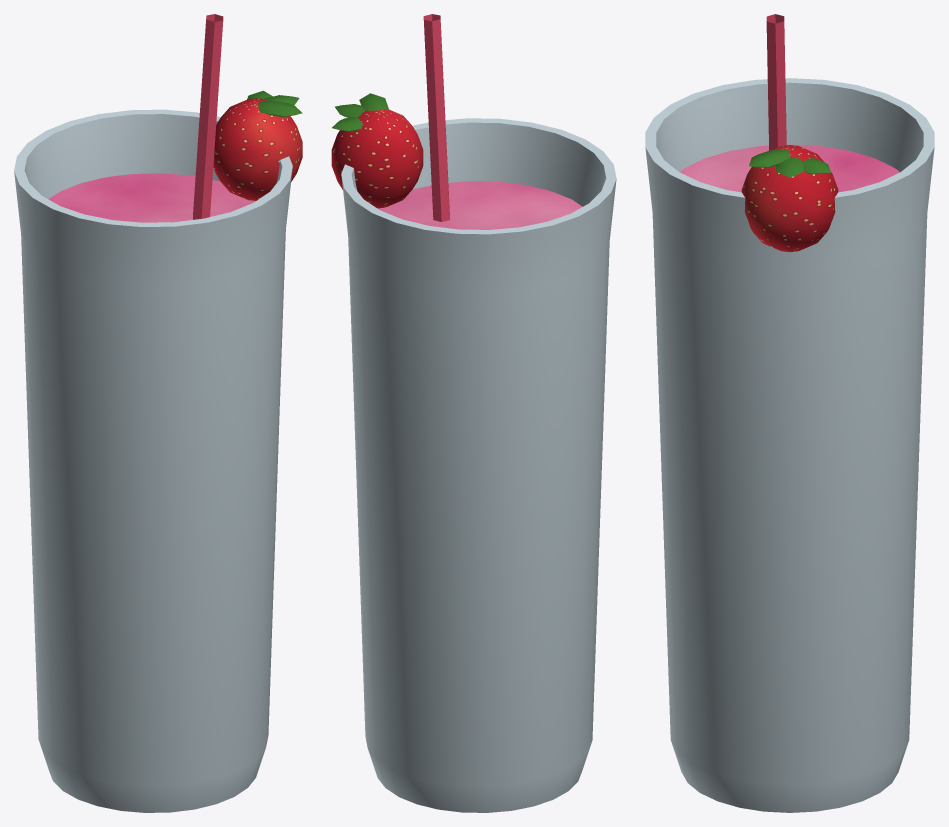
File: drink_smoothie_strawberry_tall.glb
3 views of the same model, side by side, from view 1: azimuth 30°, elevation 25°; view 2: azimuth 150°, elevation 25°; view 3: azimuth 270°, elevation 25° (orthographic). The views are drawn at different scales.
Parts seen in each view (by area): view 1: drink_smoothie_strawberry_tall; view 2: drink_smoothie_strawberry_tall; view 3: drink_smoothie_strawberry_tall.
Boxes of the visible parts, bbox=[...] form: drink_smoothie_strawberry_tall: bbox=[14, 14, 302, 812]; drink_smoothie_strawberry_tall: bbox=[331, 14, 616, 812]; drink_smoothie_strawberry_tall: bbox=[645, 14, 934, 812].
Size of the model in its own units: 0.0884 by 0.2352 by 0.0794.
Materials: 6 (2 with a texture image).
